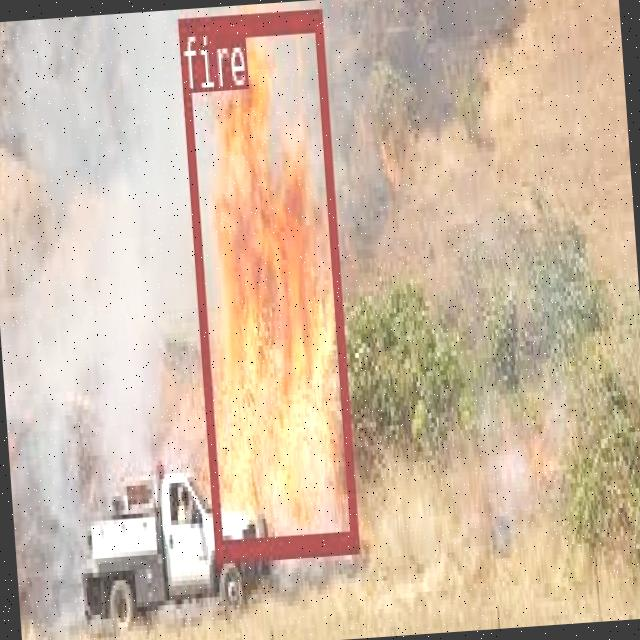fire: (177, 6, 356, 557)
